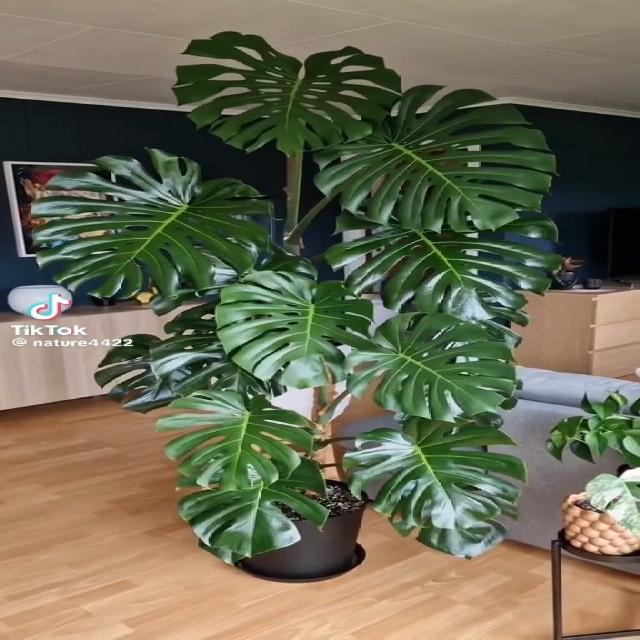roslina_zdrowa: (26, 30, 566, 569)
